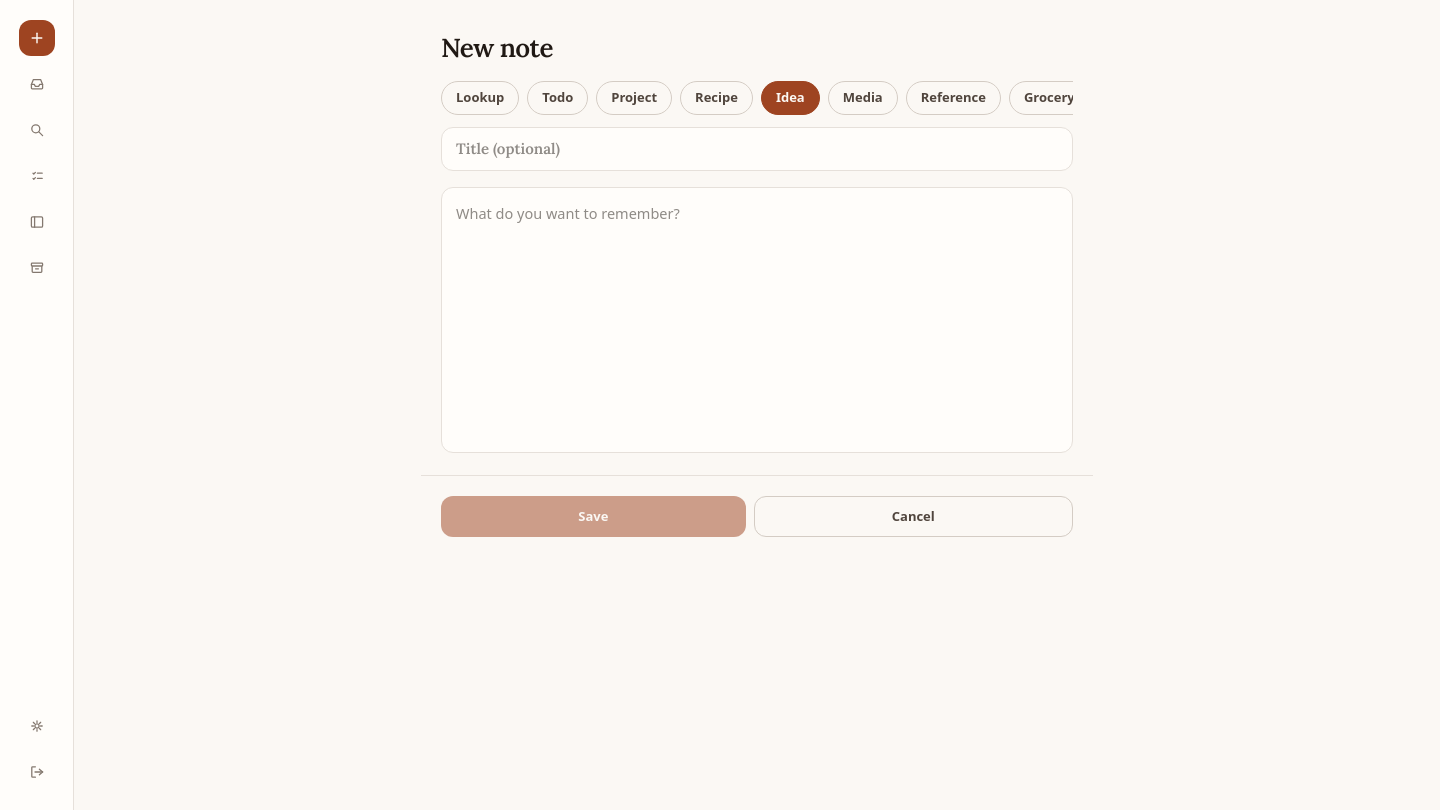
Scenario: NewItem › disables Save until there is body text
Check: the button "Save" is disabled, box [441,496,746,537]
Type "Buy a new hose" into the text box with placeholder "What do you want to remember?" at coordinates (757, 320), box [441,187,1073,453]
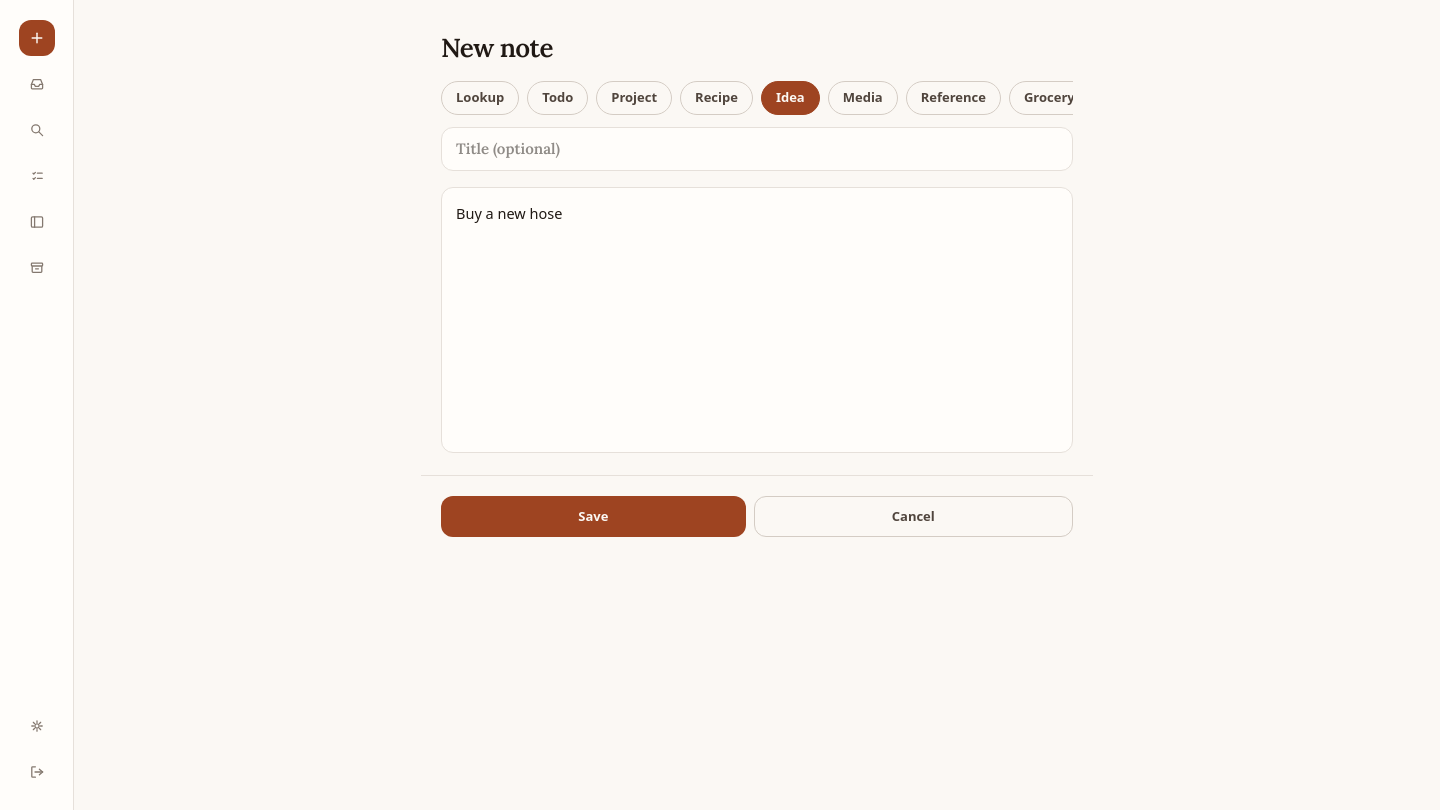
Check: the button "Save" is enabled, box [441,496,746,537]
